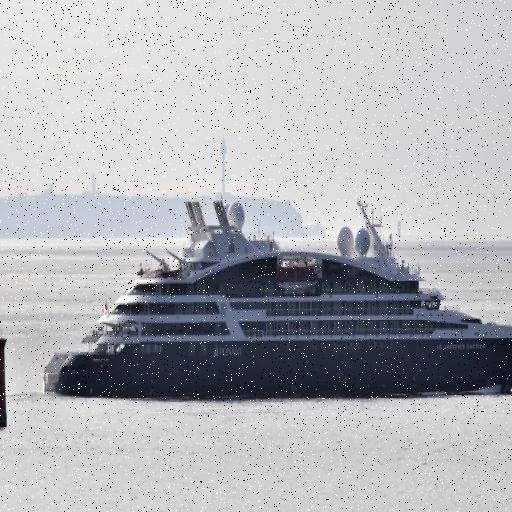cruises: (38, 186, 512, 413)
